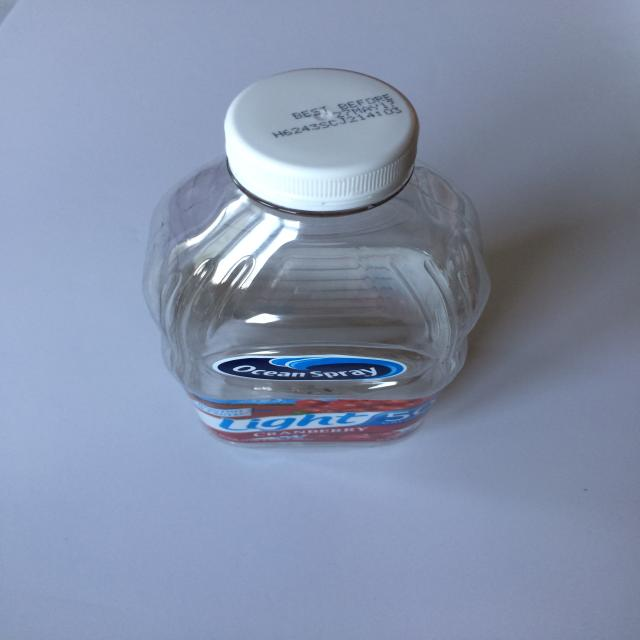plastic: (140, 67, 492, 447)
